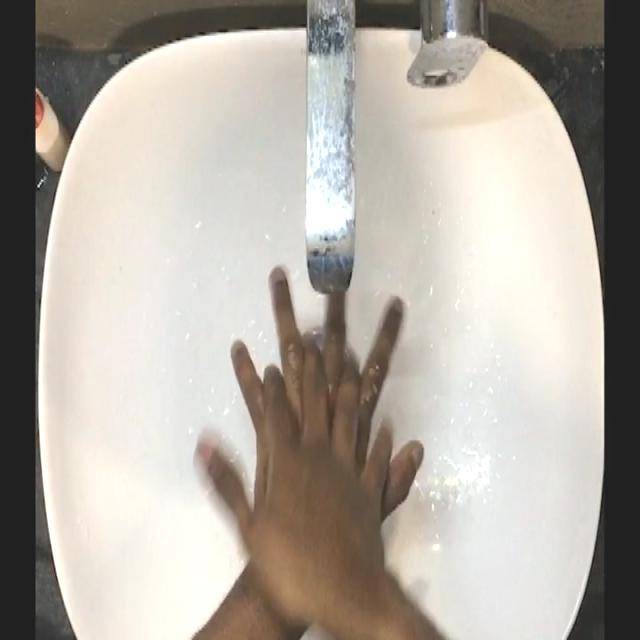step_2: (193, 242, 428, 566)
